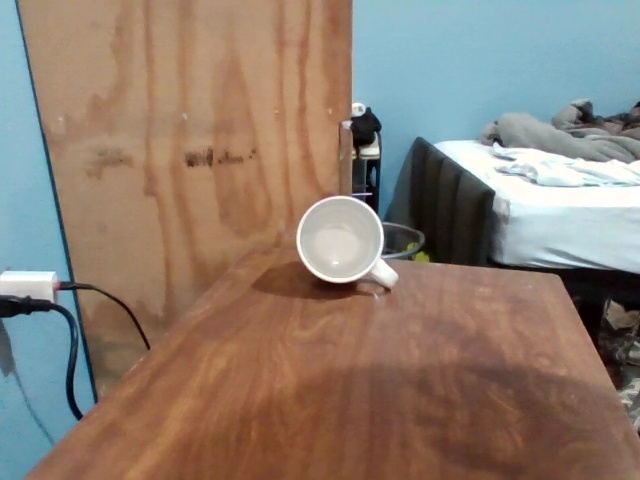taza: (296, 195, 423, 287)
